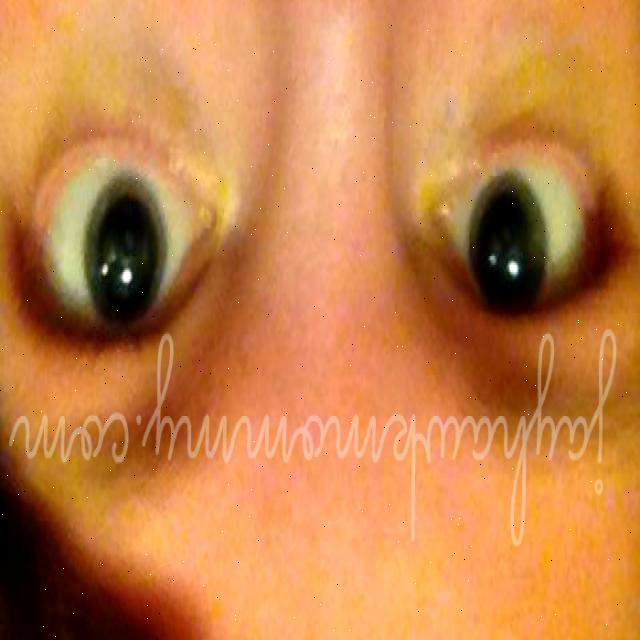Normal: (85, 176, 162, 336), (469, 172, 544, 330)
